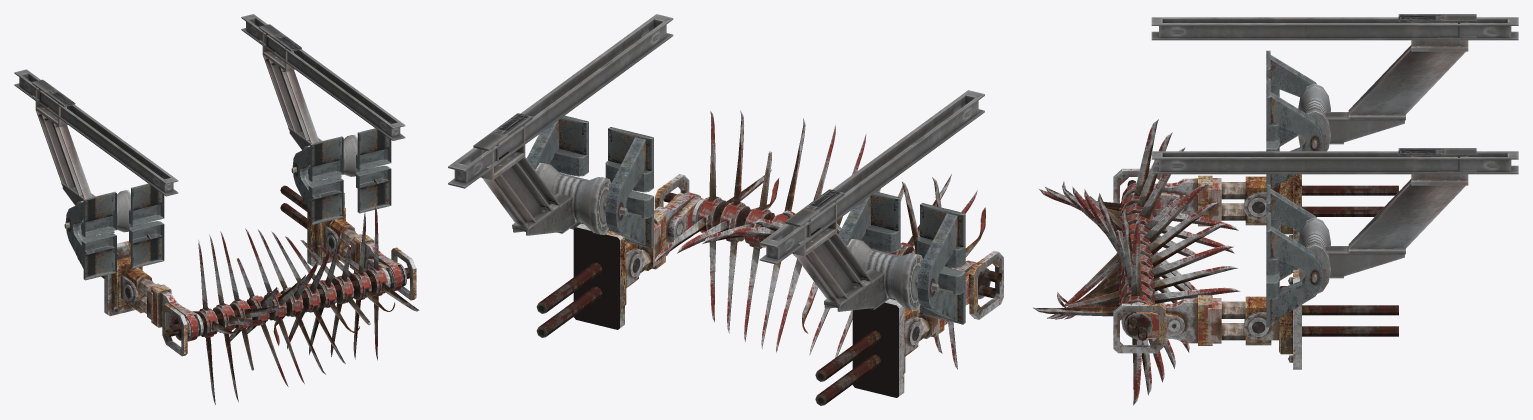
File: BladeMachine.FBX
3 renders of one model, left to right at view 1: azimuth 30°, elevation 25°; view 2: azimuth 150°, elevation 25°; view 3: azimuth 270°, elevation 25°, orthographic. The views are drawn at different scales.
Visible parts, largest first — view 1: Base_SM, Rotor_SM; view 2: Base_SM, Rotor_SM; view 3: Base_SM, Rotor_SM.
Boxes of the visible parts, bbox=[...] form: Base_SM: bbox=[14, 14, 416, 356]; Rotor_SM: bbox=[165, 202, 419, 404]; Base_SM: bbox=[448, 14, 1003, 405]; Rotor_SM: bbox=[654, 110, 1002, 369]; Base_SM: bbox=[1113, 14, 1518, 369]; Rotor_SM: bbox=[1033, 119, 1240, 405].
Bounding box in the file's own units: 5.43 × 3.81 × 6.18.
3 materials, 3 textured.
